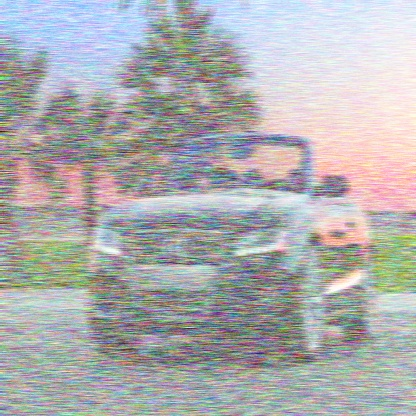Vehicle: (86, 129, 378, 358)
